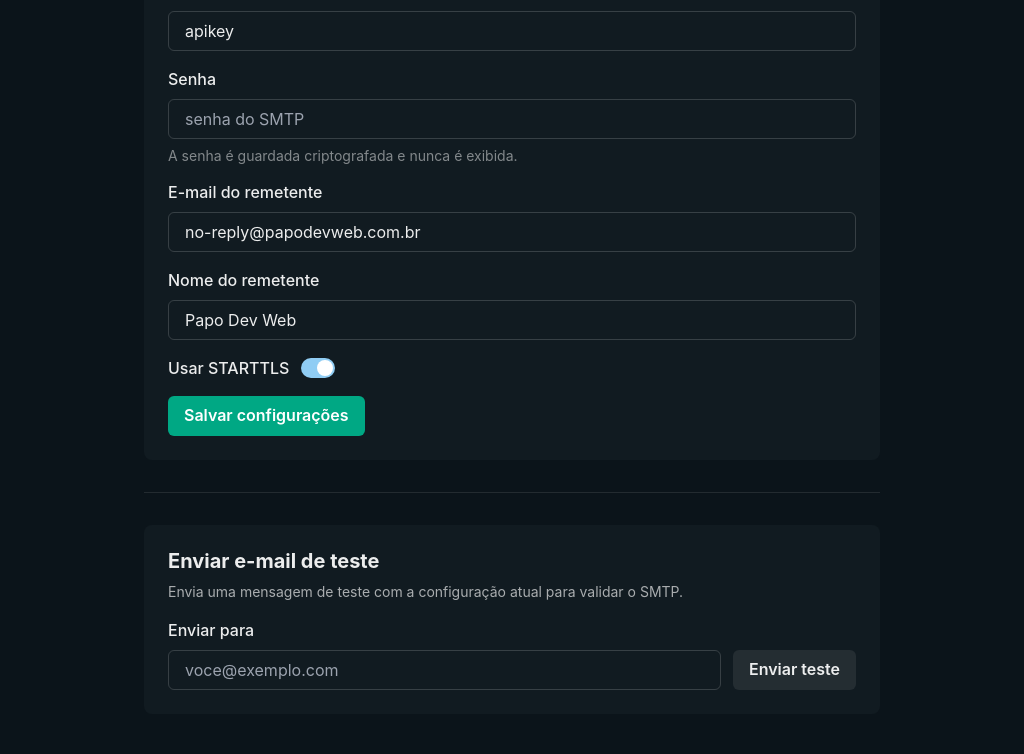
Test: AdminSettingsPage › mostra erro quando salvar falha
(page scrolled)
Click the button "Salvar configurações".
click(266, 416)  # box [168,396,365,436]
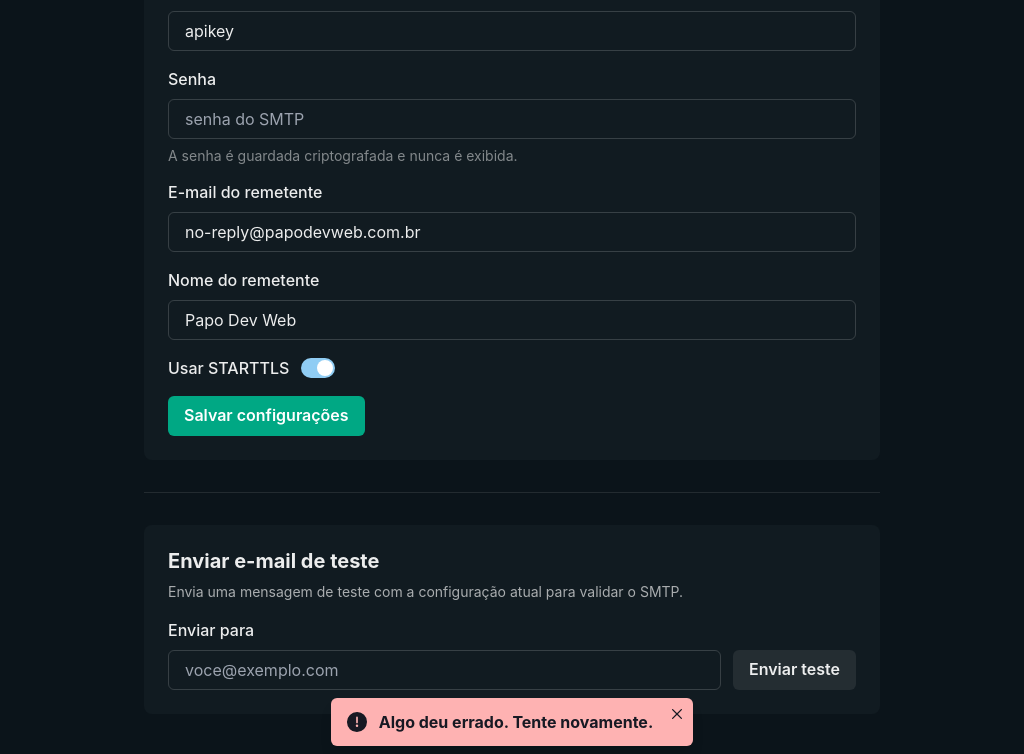
Expected: the text "Algo deu errado. Tente novamente." is shown, [379,710,653,734]
